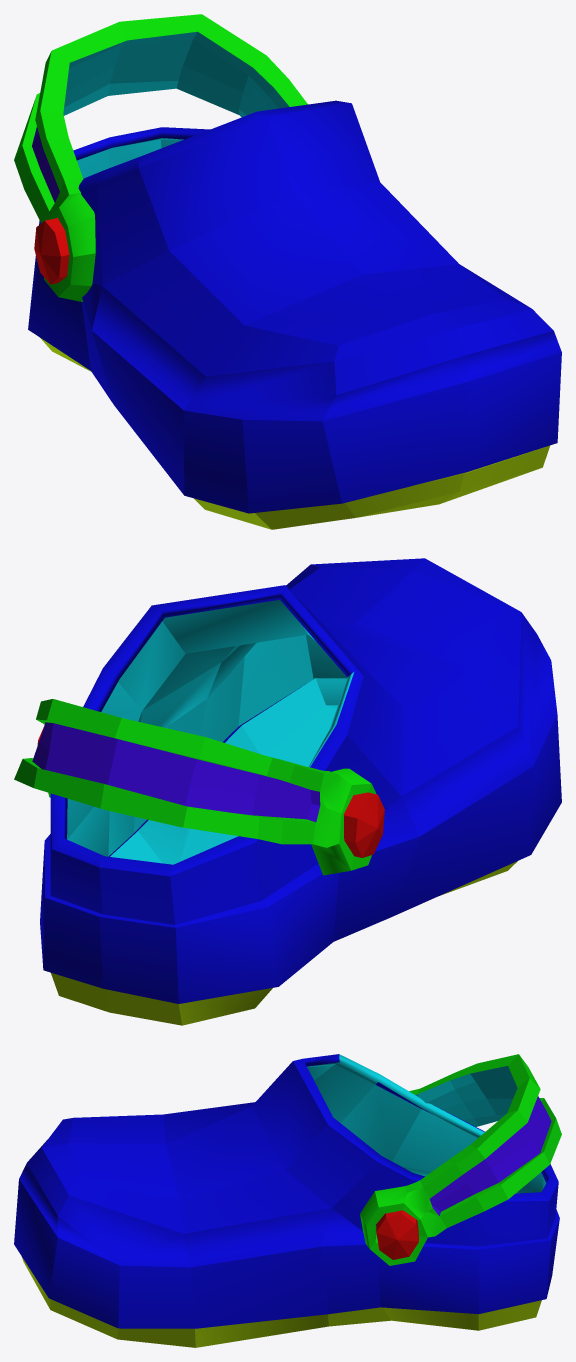
File: crock.fbx
3 renders of one model, top to bottom at view 1: azimuth 30°, elevation 25°; view 2: azimuth 150°, elevation 25°; view 3: azimuth 270°, elevation 25°, orthographic. The views are drawn at different scales.
Parts seen in each view (by area): view 1: Crocs (de rayo mcqueen); view 2: Crocs (de rayo mcqueen); view 3: Crocs (de rayo mcqueen).
Boxes of the visible parts, x1,y1,x2,y2 form: Crocs (de rayo mcqueen): (14, 14, 561, 529); Crocs (de rayo mcqueen): (14, 558, 561, 1025); Crocs (de rayo mcqueen): (14, 1054, 561, 1347).
Size of the model in its own units: 0.4933 by 0.4328 by 0.9133.
